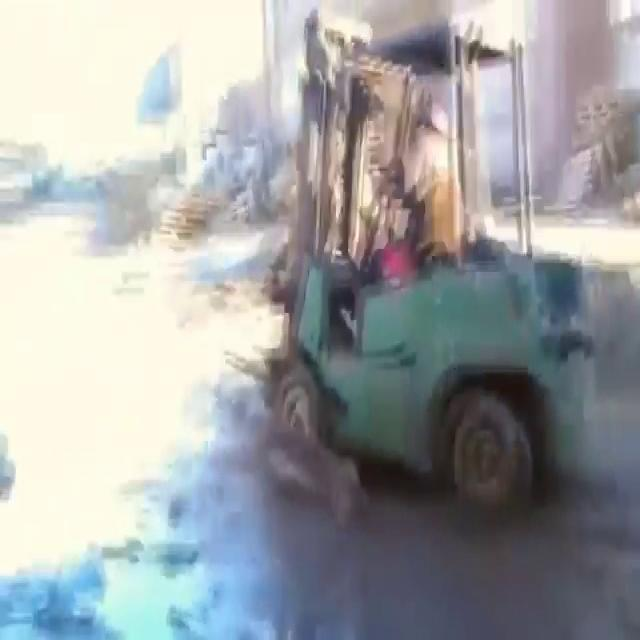forklift: (278, 5, 596, 519)
